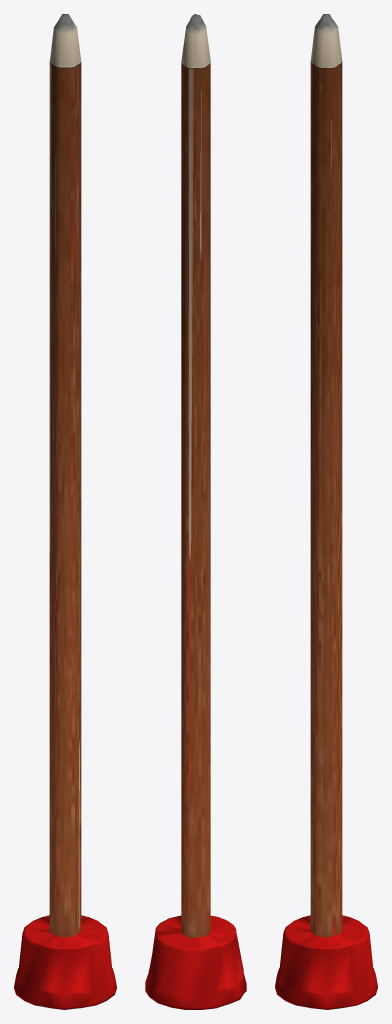
The model's file is tripo_convert_f1ec6ba5-d6ae-4a4e-8721-09e172e86254.fbx.
The picture shows the model from 3 angles, left to right: view 1: azimuth 90°, elevation 25°; view 2: azimuth 150°, elevation 25°; view 3: azimuth 270°, elevation 25°; orthographic projection.
Visible parts, largest first — view 1: tripo_node_f1ec6ba5; view 2: tripo_node_f1ec6ba5; view 3: tripo_node_f1ec6ba5.
Part boxes in pixels (bbox=[...]): tripo_node_f1ec6ba5: bbox=[14, 14, 116, 1009]; tripo_node_f1ec6ba5: bbox=[145, 14, 246, 1009]; tripo_node_f1ec6ba5: bbox=[275, 14, 377, 1009].
Size of the model in its own units: 0.0957 by 0.998 by 0.0957.
